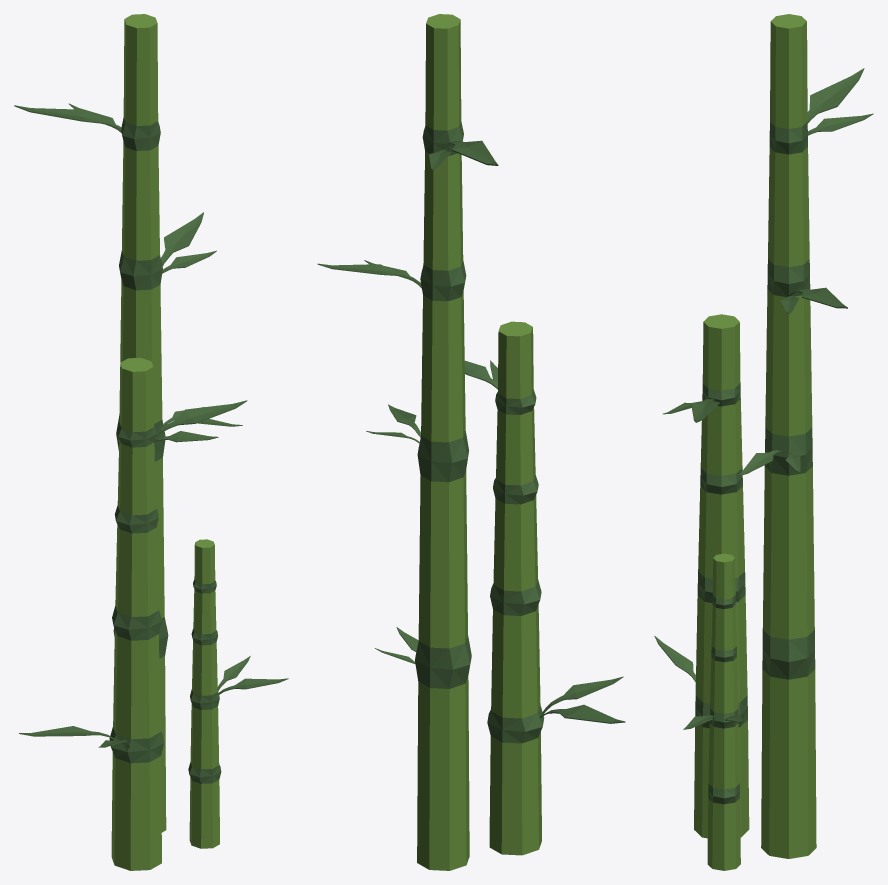
Rendered from bamboo_group.fbx.
3 views of the same model, side by side, from view 1: azimuth 30°, elevation 25°; view 2: azimuth 150°, elevation 25°; view 3: azimuth 270°, elevation 25° (orthographic). The views are drawn at different scales.
Parts seen in each view (by area): view 1: bamboo_group_LOD0; view 2: bamboo_group_LOD0; view 3: bamboo_group_LOD0.
Boxes of the visible parts, box(x1,y1,x2,y2) form: bamboo_group_LOD0: box(14, 14, 288, 870); bamboo_group_LOD0: box(317, 14, 625, 870); bamboo_group_LOD0: box(654, 14, 873, 870).
Size of what is drawn, in the model's own units: 180 by 566 by 136.
